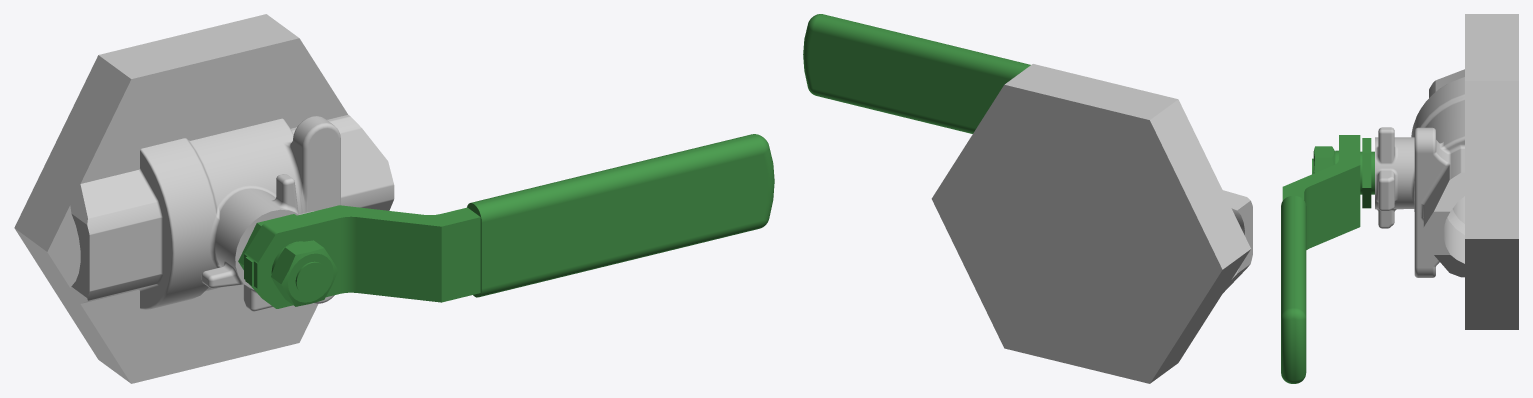
File: ball_valve_360_assembly.obj
3 views of the same model, side by side, from view 1: azimuth 30°, elevation 25°; view 2: azimuth 150°, elevation 25°; view 3: azimuth 270°, elevation 25° (orthographic). The views are drawn at different scales.
Parts seen in each view (by area): view 1: ball_valve_360_base, ball_valve_360_lever; view 2: ball_valve_360_base, ball_valve_360_lever; view 3: ball_valve_360_base, ball_valve_360_lever.
Part boxes in pixels (left/top/right/bottom): ball_valve_360_base: left=14, top=14, right=394, bottom=383; ball_valve_360_lever: left=238, top=134, right=774, bottom=308; ball_valve_360_base: left=931, top=64, right=1252, bottom=383; ball_valve_360_lever: left=803, top=14, right=1030, bottom=133; ball_valve_360_base: left=1375, top=14, right=1518, bottom=329; ball_valve_360_lever: left=1281, top=135, right=1374, bottom=383.
Size of the model in its own units: 16.23 by 7.63 by 6.61.
